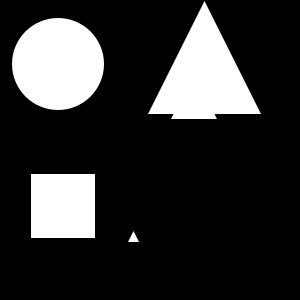circle: (31, 174, 95, 238)
rectangle: (12, 18, 104, 110)
triangle: (148, 1, 261, 114), (171, 73, 217, 119), (128, 231, 139, 242)
